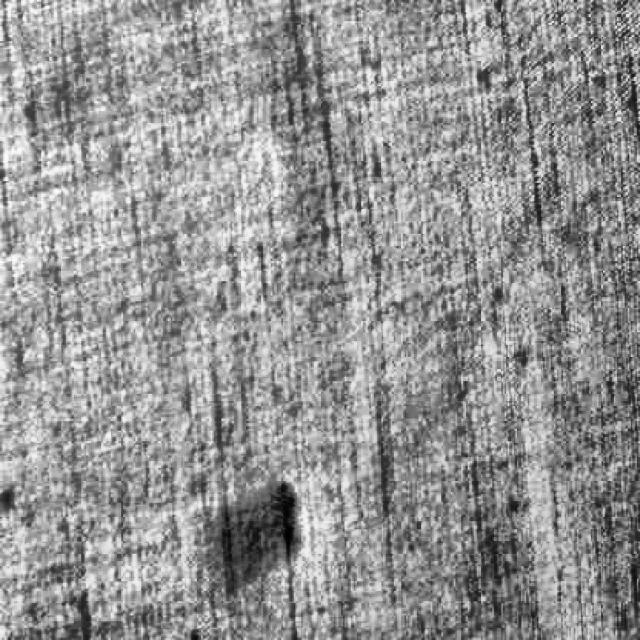oil_spot: (202, 477, 318, 604)
